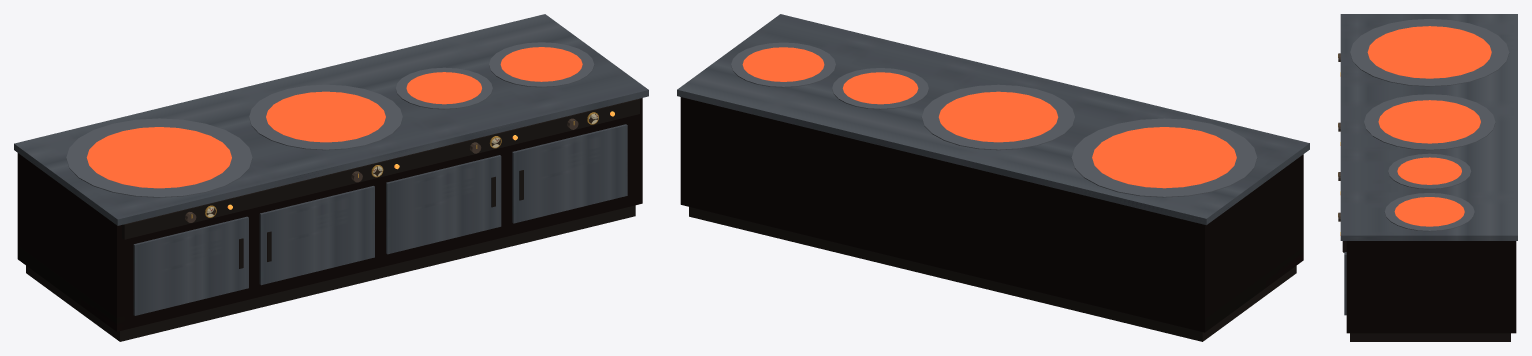
The model's file is warmer.glb.
The picture shows the model from 3 angles, left to right: view 1: azimuth 30°, elevation 25°; view 2: azimuth 150°, elevation 25°; view 3: azimuth 270°, elevation 25°; orthographic projection. The views are drawn at different scales.
Visible parts, largest first — view 1: WarmerBody, WarmerWells, WarmerControls; view 2: WarmerBody, WarmerWells; view 3: WarmerBody, WarmerWells.
Boxes of the visible parts, x1,y1,x2,y2 form: WarmerBody: (14, 14, 648, 341); WarmerWells: (66, 42, 594, 197); WarmerControls: (185, 111, 614, 222); WarmerBody: (677, 14, 1309, 341); WarmerWells: (731, 42, 1257, 197); WarmerBody: (1340, 14, 1517, 341); WarmerWells: (1350, 19, 1509, 231).
Size of the model in its own units: 3.03 by 0.705 by 1.04.
9 materials, 3 textured.
